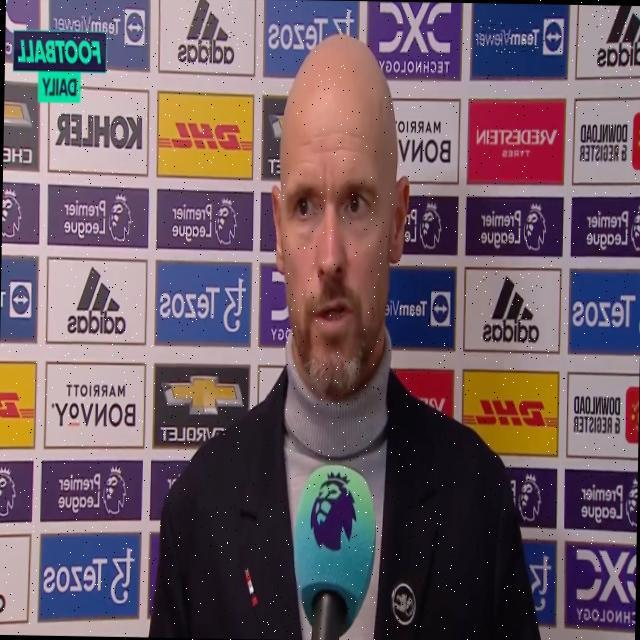Adidas: (66, 262, 127, 335), (481, 272, 540, 344), (177, 0, 235, 64), (594, 6, 640, 69)
Chevrolet: (157, 370, 242, 445)
Kohler: (54, 112, 143, 149)
TeamViewer: (52, 6, 145, 44), (474, 17, 563, 56)
